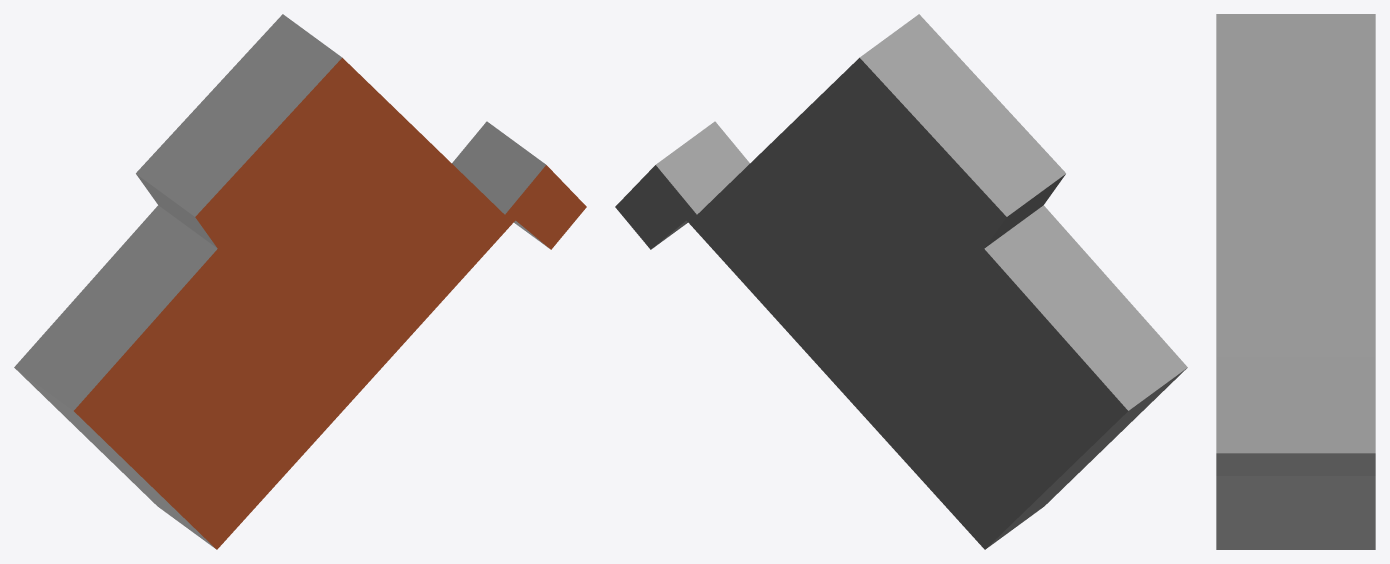
The model's file is construction_4397_assumed_A_Casa_h6m.obj.
3 renders of one model, left to right at view 1: azimuth 30°, elevation 25°; view 2: azimuth 150°, elevation 25°; view 3: azimuth 270°, elevation 25°, orthographic. The views are drawn at different scales.
Parts seen in each view (by area): view 1: construction_4397_assumed_A_Casa; view 2: construction_4397_assumed_A_Casa; view 3: construction_4397_assumed_A_Casa.
Boxes of the visible parts, x1,y1,x2,y2 form: construction_4397_assumed_A_Casa: [14, 14, 586, 549]; construction_4397_assumed_A_Casa: [615, 14, 1187, 549]; construction_4397_assumed_A_Casa: [1216, 14, 1375, 549].
Bounding box in the file's own units: 29.86 × 25.67 × 6.
